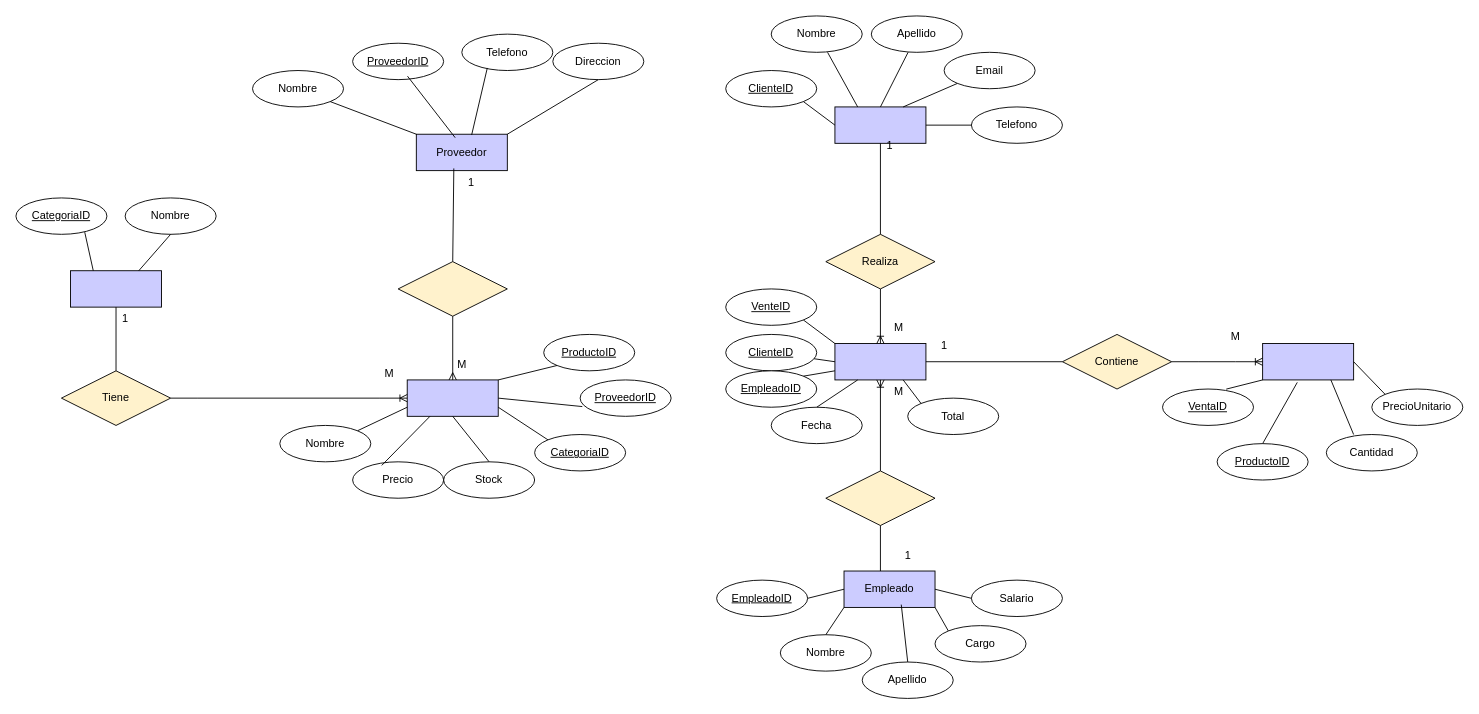
Some shapes in this 1479 by 714 pixel diagram are drawn without their labels. The centre of each missing label's shape, as x and y in pixels:
"Atiende" belongs at (880,498).
"Categoria" belongs at (116,288).
"Cliente" belongs at (880,124).
"DetalleVenta" belongs at (1308,361).
"Producto" belongs at (452,397).
"Suministra" belongs at (452,288).
"Venta" belongs at (880,361).
